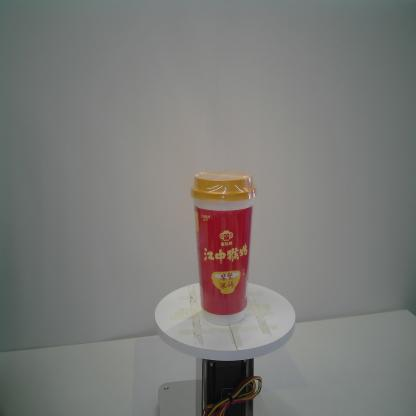Instant Drink: (190, 170, 258, 326)
